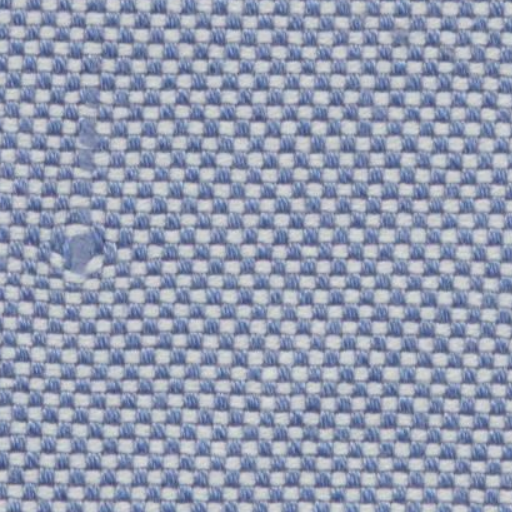PoDong: (28, 218, 152, 288)
